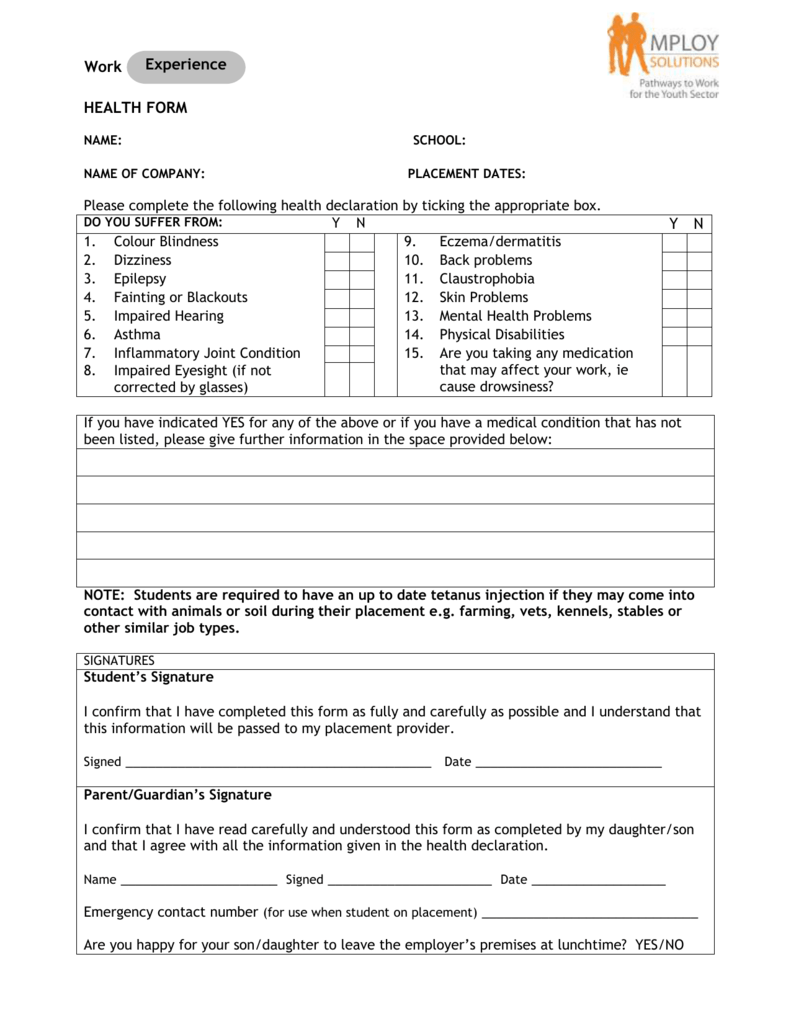textbox: (68, 438, 718, 484), (70, 468, 719, 508), (71, 525, 719, 564), (70, 552, 722, 590), (71, 498, 720, 535), (684, 339, 718, 400), (658, 337, 690, 401), (342, 355, 380, 396), (318, 357, 355, 399), (678, 283, 717, 317), (659, 264, 696, 298), (682, 262, 714, 296), (321, 245, 352, 280), (322, 266, 355, 297), (655, 228, 690, 256), (659, 246, 691, 276), (660, 323, 693, 352), (345, 229, 383, 254), (680, 250, 718, 275), (320, 303, 355, 330), (346, 248, 382, 274), (683, 323, 715, 352), (684, 304, 717, 332), (658, 303, 691, 331), (345, 306, 380, 332), (345, 268, 381, 293), (659, 285, 689, 315), (319, 286, 352, 312), (346, 342, 379, 367), (320, 323, 352, 348), (687, 228, 716, 255), (322, 342, 353, 367), (347, 324, 379, 348), (323, 231, 352, 257), (348, 286, 378, 311)
textline: (123, 749, 438, 771), (476, 904, 708, 929), (113, 871, 288, 891), (471, 754, 669, 771), (323, 874, 496, 889), (526, 875, 673, 890)
